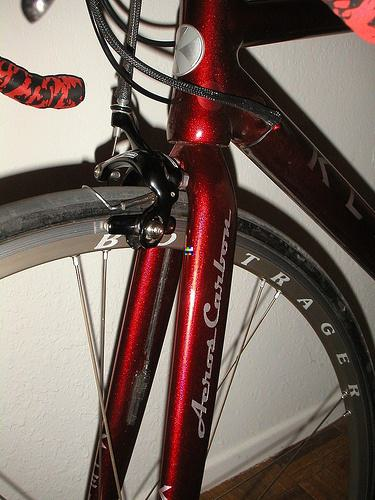car: (4, 4, 374, 499)
